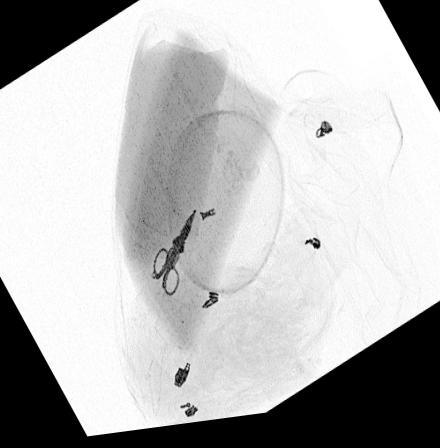Scissors: (150, 213, 195, 303)
